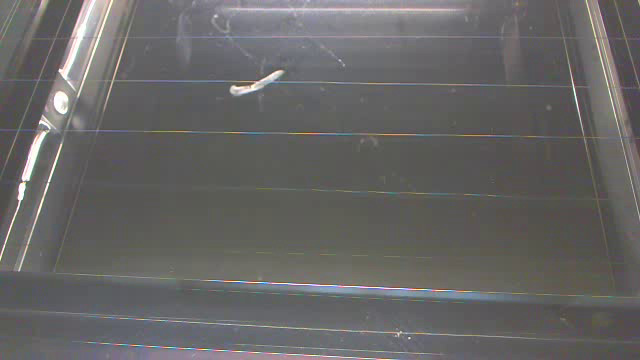alpha: (229, 69, 286, 99)
